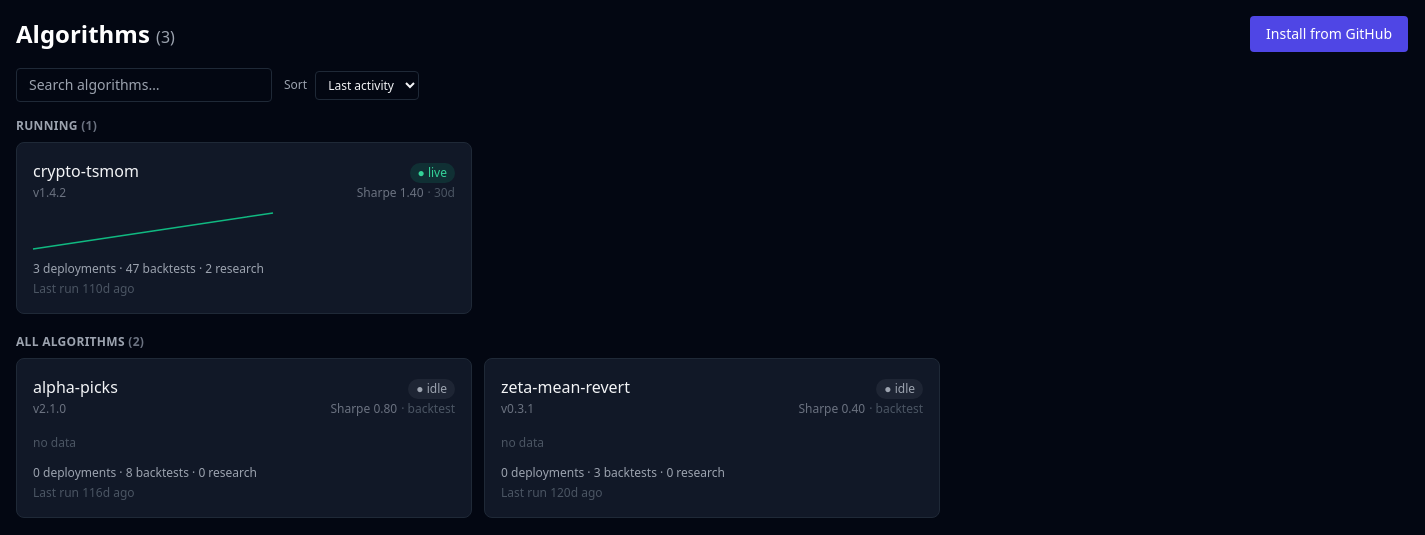
AlgorithmsGrid › filters by name when the search input changes
In the field with placeholder "Search algorithms…": (144, 85) [16, 68, 272, 102], type "alpha"
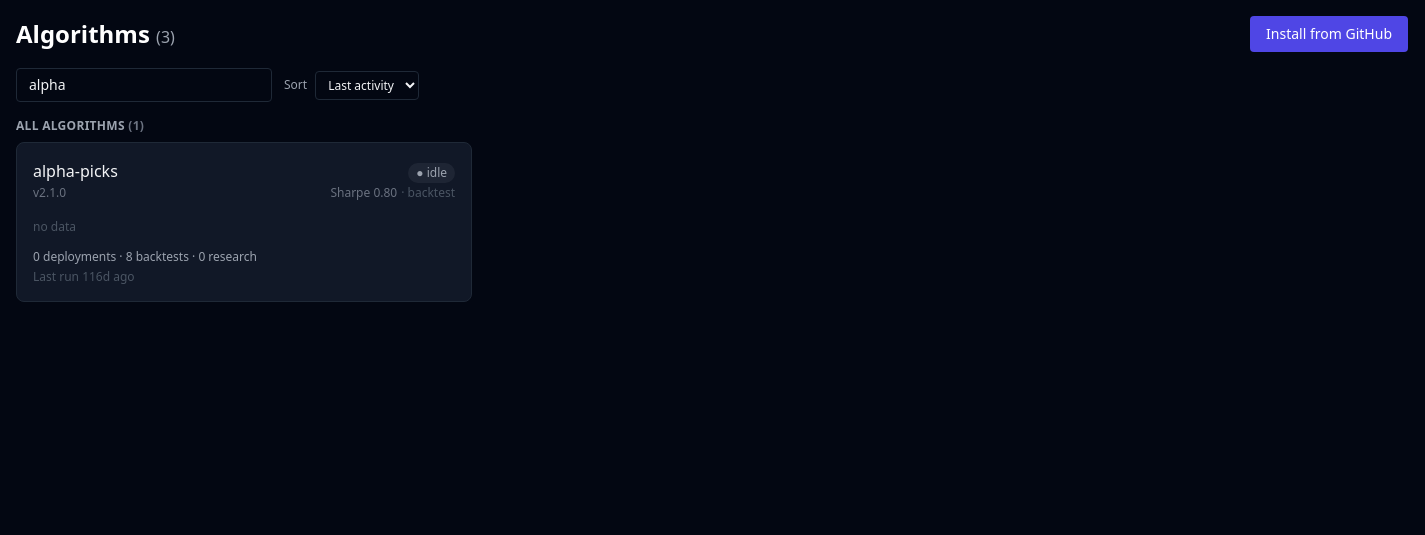
Check: the text "alpha-picks" is shown, box [33, 159, 118, 183]
Check: the link "crypto-tsmom" is gone
